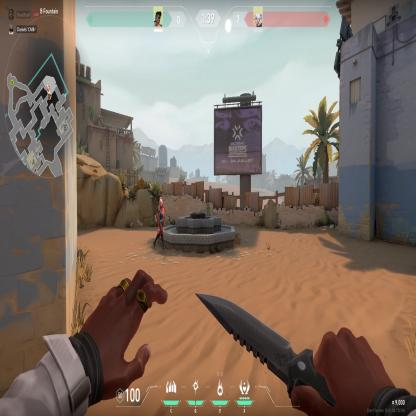enemy: (152, 198, 166, 250)
